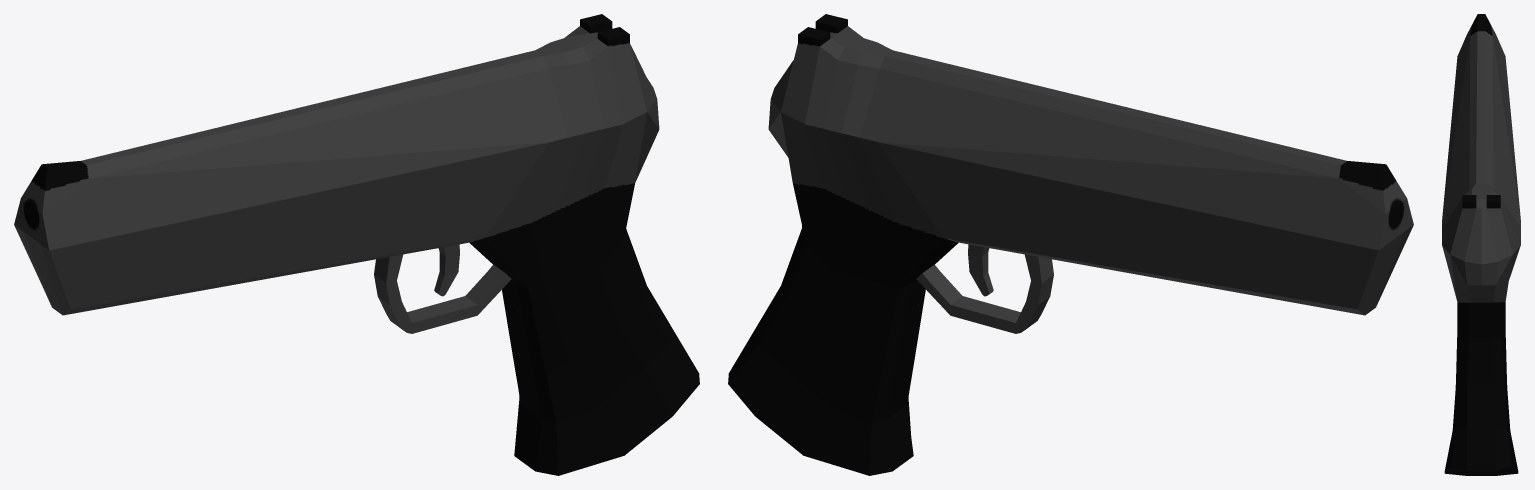
The model's file is gun-ver-6.9.3.glb.
3 renders of one model, left to right at view 1: azimuth 30°, elevation 25°; view 2: azimuth 150°, elevation 25°; view 3: azimuth 270°, elevation 25°, orthographic. The views are drawn at different scales.
Parts seen in each view (by area): view 1: Cube, Cube.002, Cube.001; view 2: Cube, Cube.002, Cube.001; view 3: Cube.
Boxes of the visible parts, box(x1,y1,x2,y2) form: Cube: box(14, 14, 699, 475); Cube.002: box(374, 254, 511, 333); Cube.001: box(434, 244, 459, 296); Cube: box(728, 14, 1413, 475); Cube.002: box(916, 254, 1053, 333); Cube.001: box(968, 244, 993, 296); Cube: box(1442, 14, 1520, 475).
Bounding box in the file's own units: 17.95 × 10.89 × 2.74.
2 materials, 2 textured.
